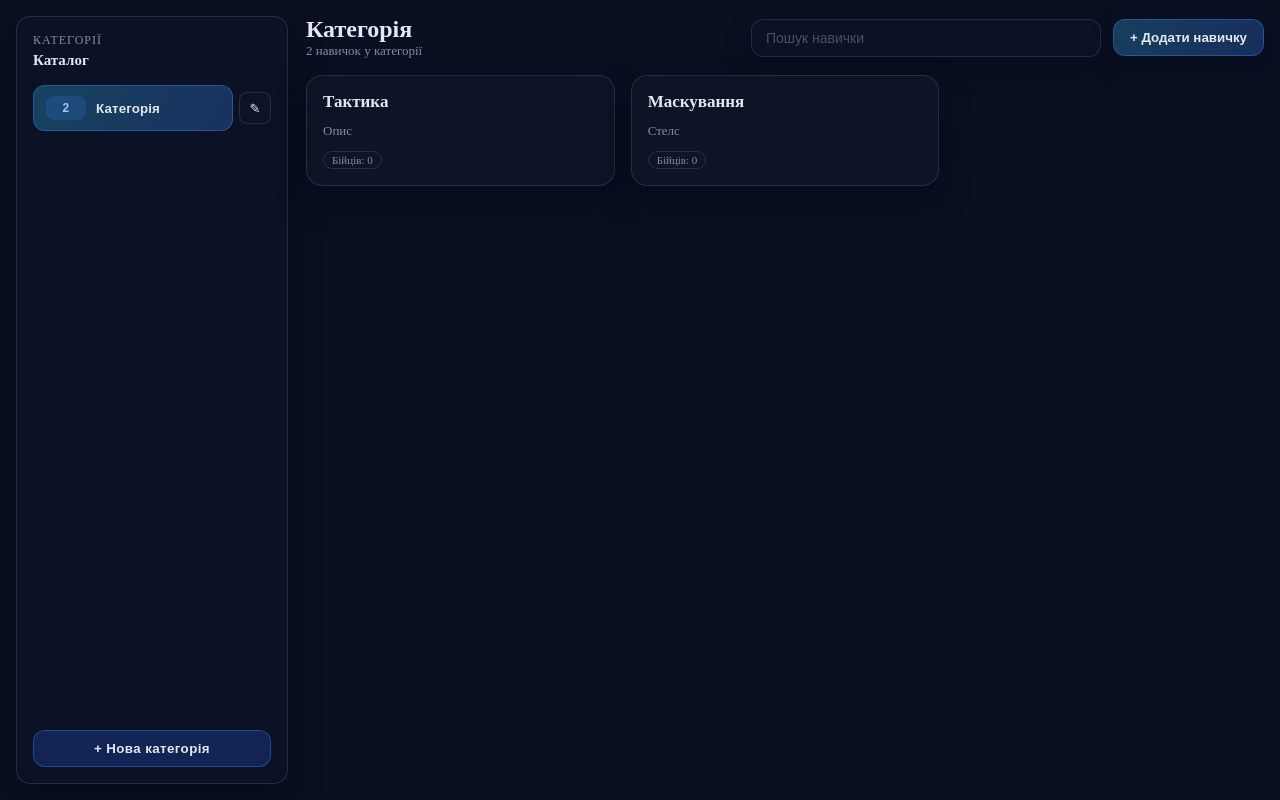
Test case: Skills page › filters skills by search query
Type "маск" into the field with placeholder "Пошук навички". click: (926, 38)
box: [751,18,1101,56]
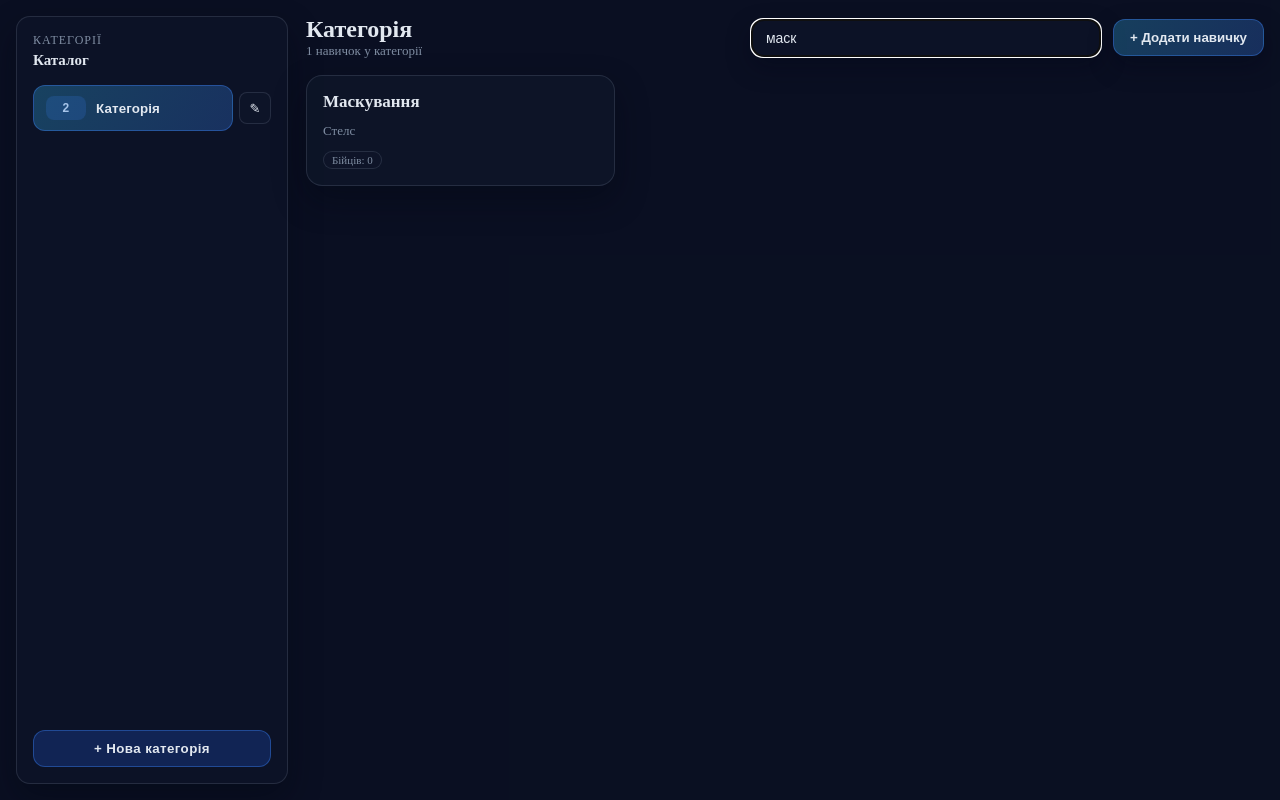
Expected: the text "Маскування" is shown, [323,92,420,111]
Result: the button "Тактика" is gone
